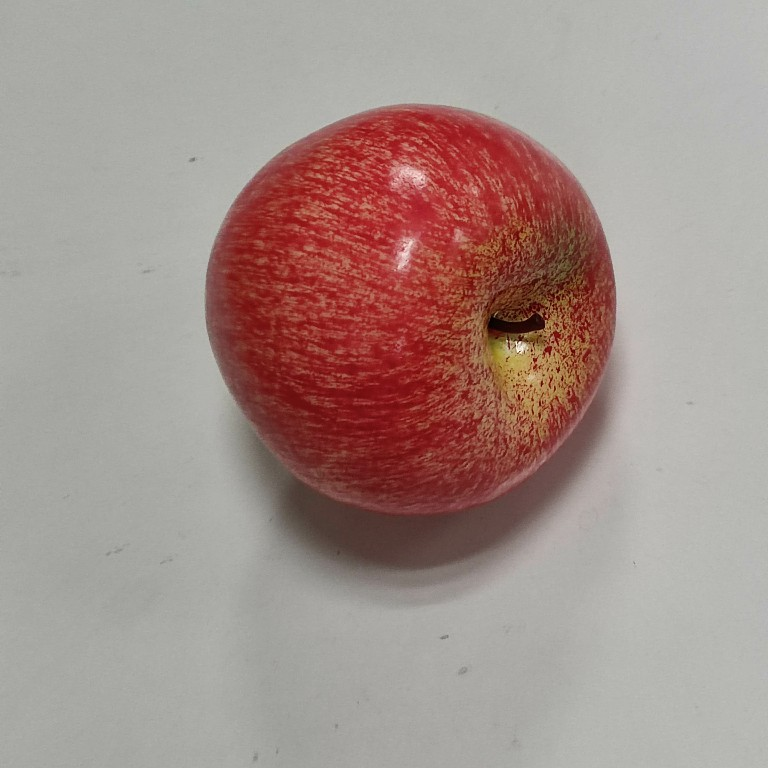fruit_apple: (202, 91, 625, 535)
